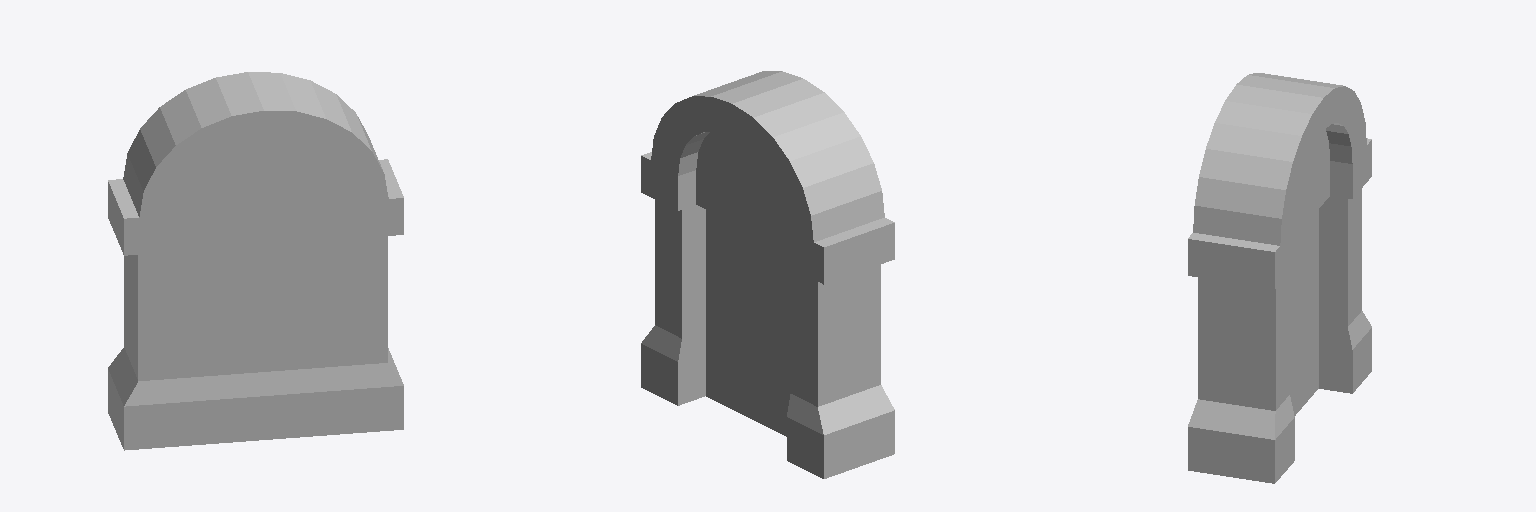
Rendered from Gravestone_Round_2.obj.
3 renders of one model, left to right at view 1: azimuth 30°, elevation 25°; view 2: azimuth 150°, elevation 25°; view 3: azimuth 270°, elevation 25°, orthographic.
Visible parts, largest first — view 1: Gravestone_Round_2; view 2: Gravestone_Round_2; view 3: Gravestone_Round_2.
Part boxes in pixels (bbox=[...]): Gravestone_Round_2: bbox=[108, 72, 403, 450]; Gravestone_Round_2: bbox=[641, 71, 894, 478]; Gravestone_Round_2: bbox=[1188, 73, 1371, 483].
Size of the model in its own units: 0.574 by 0.6978 by 0.3543.